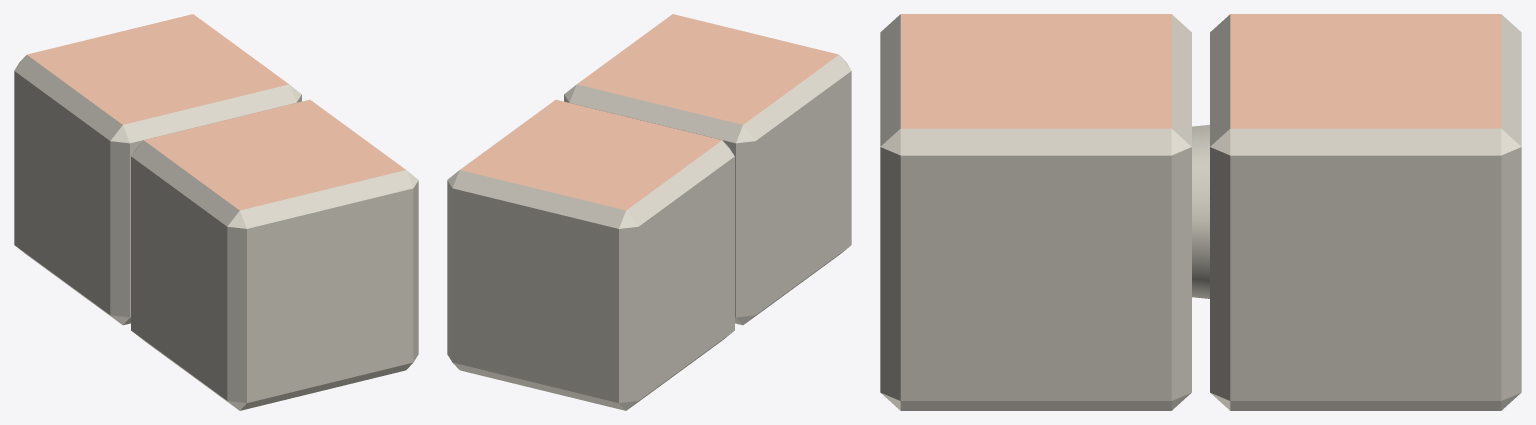
File: R4C_STRUT_SHORT_LOD1.fbx
3 renders of one model, left to right at view 1: azimuth 30°, elevation 25°; view 2: azimuth 150°, elevation 25°; view 3: azimuth 270°, elevation 25°, orthographic. The views are drawn at different scales.
Visible parts, largest first — view 1: R4C_STRUT_SHORT_LOD1; view 2: R4C_STRUT_SHORT_LOD1; view 3: R4C_STRUT_SHORT_LOD1.
Part boxes in pixels (box(x1,y1,x2,y2)): R4C_STRUT_SHORT_LOD1: box(14, 14, 418, 410); R4C_STRUT_SHORT_LOD1: box(447, 14, 851, 410); R4C_STRUT_SHORT_LOD1: box(880, 14, 1521, 410).
Size of the model in its own units: 0.52 by 0.52 by 1.07.
